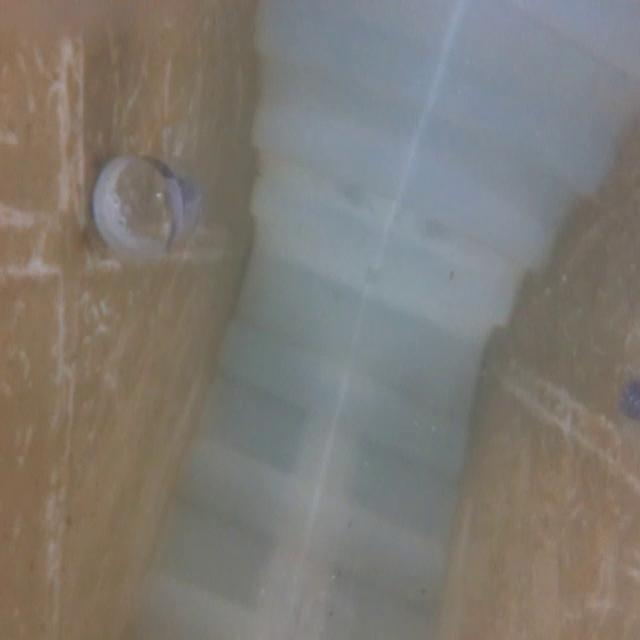plastic bottle: (75, 143, 218, 259)
